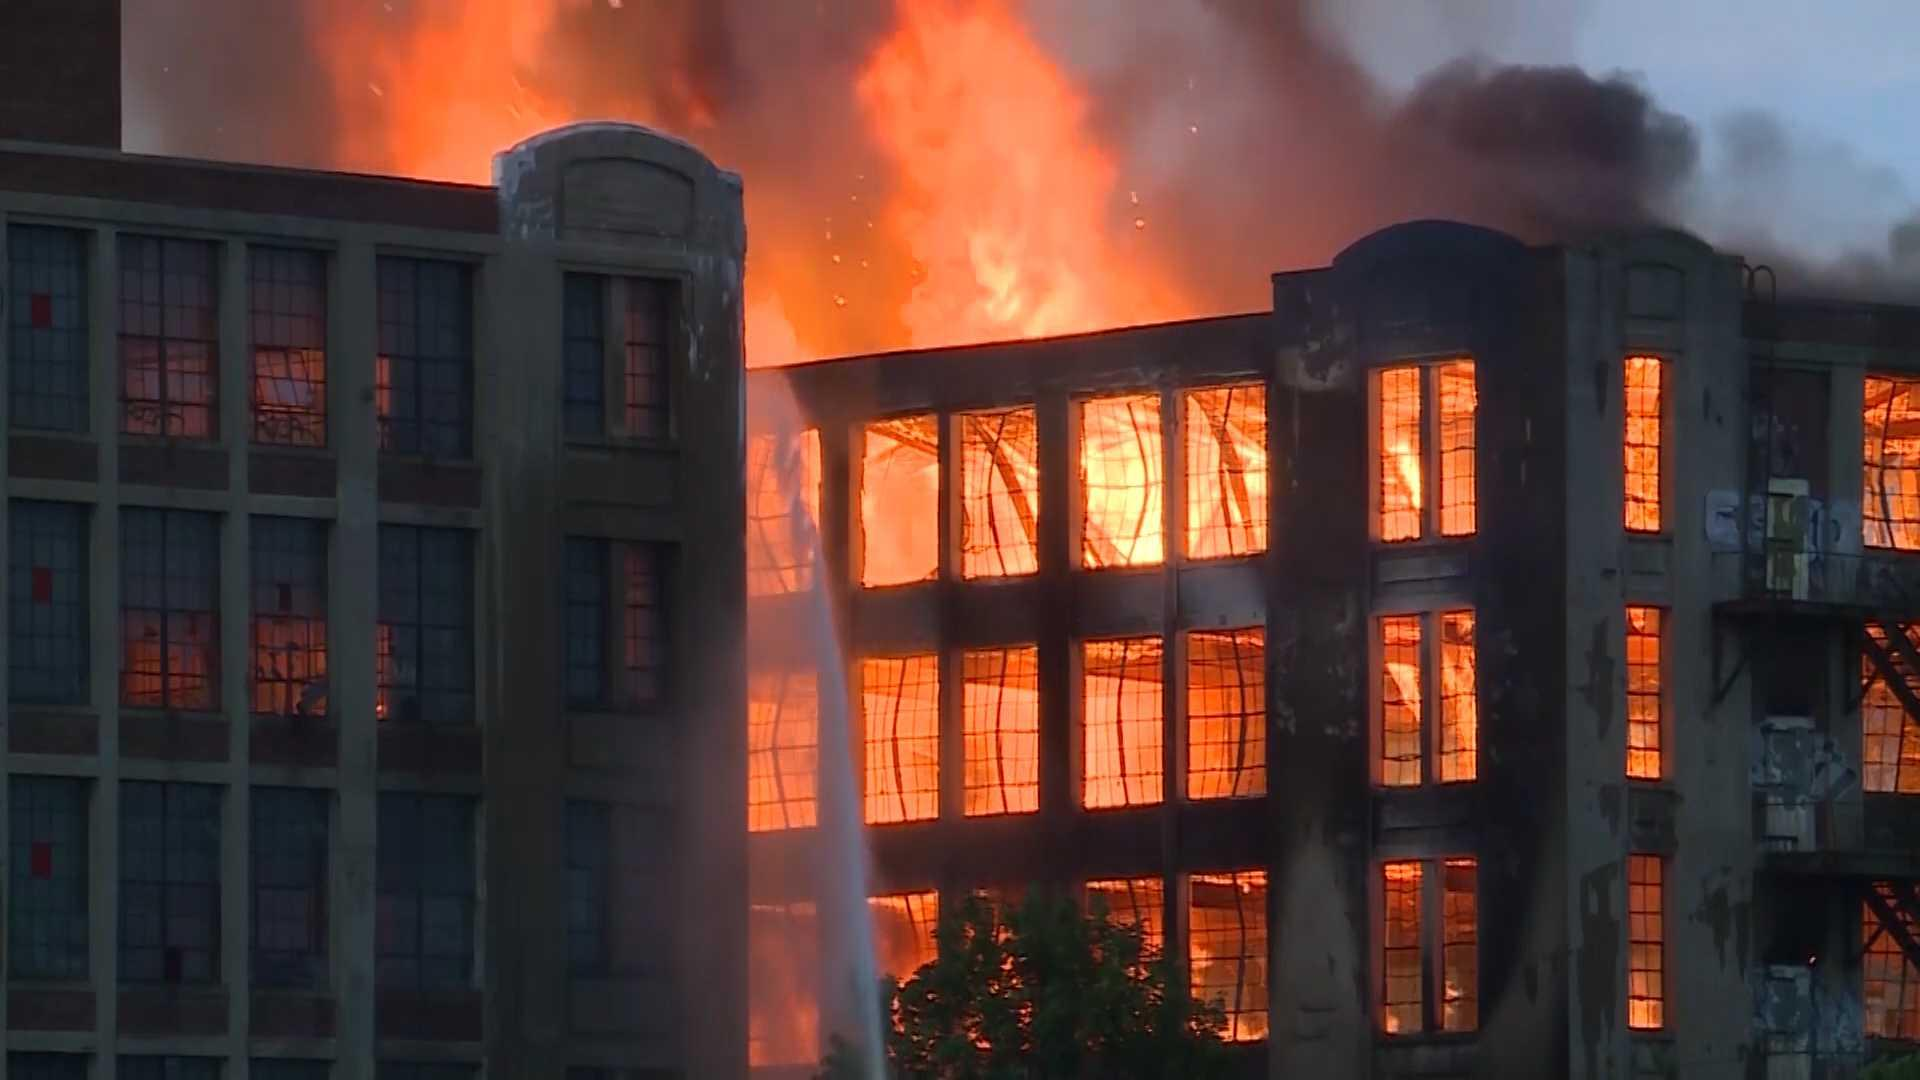Fire: (748, 61, 1826, 986)
